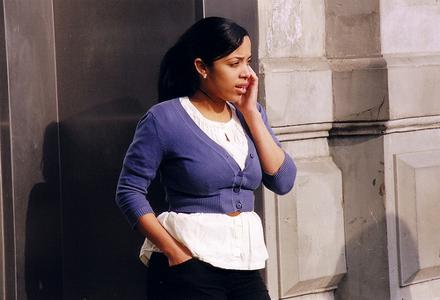person: (113, 18, 299, 297)
